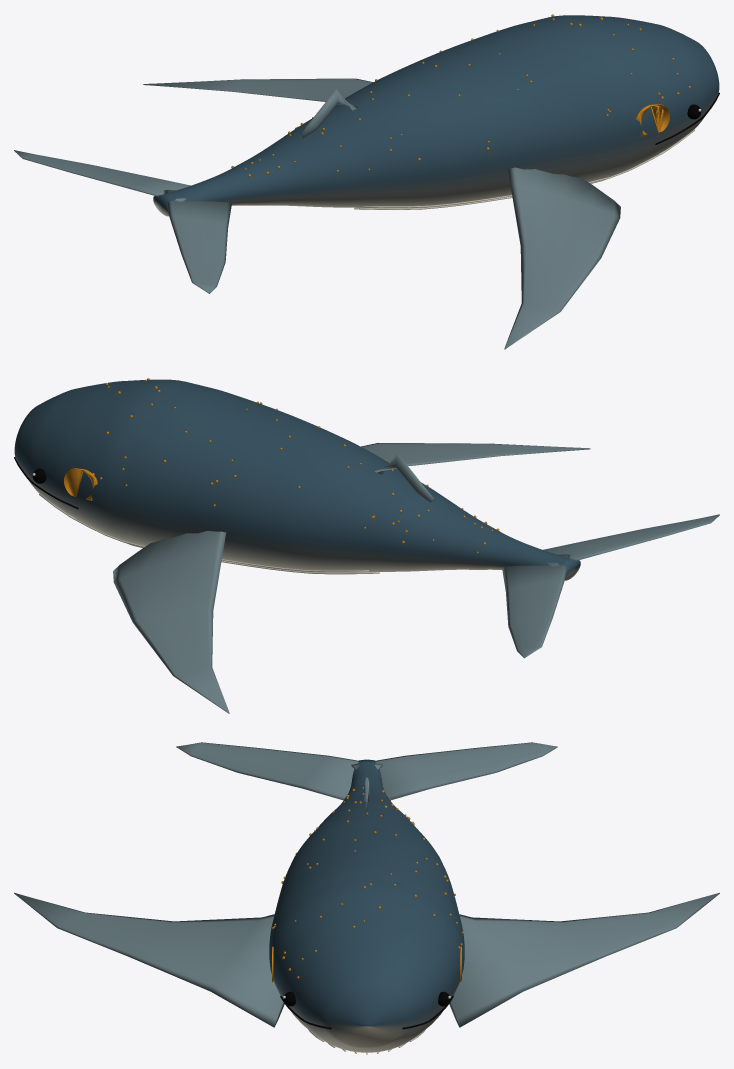
Rendered from world03-sky-whale-v1.glb.
The picture shows the model from 3 angles, top to bottom: view 1: azimuth 30°, elevation 25°; view 2: azimuth 150°, elevation 25°; view 3: azimuth 270°, elevation 25°; orthographic projection. The views are drawn at different scales.
Parts seen in each view (by area): view 1: sky-whale-body, pectoral-left-geometry, tail-fluke-left, pectoral-right-geometry, tail-fluke-right, dorsal-fin, moon-crescent-left; view 2: sky-whale-body, pectoral-right-geometry, tail-fluke-right, pectoral-left-geometry, tail-fluke-left, dorsal-fin, moon-crescent-right; view 3: sky-whale-body, pectoral-right-geometry, pectoral-left-geometry, tail-fluke-right, tail-fluke-left, eyes-and-smile.
Part boxes in pixels (x1,y1,x2,y2): sky-whale-body: (153,15,719,216); pectoral-left-geometry: (504,167,620,349); tail-fluke-left: (163,189,231,293); pectoral-right-geometry: (143,78,372,101); tail-fluke-right: (14,150,190,202); dorsal-fin: (299,89,358,137); moon-crescent-left: (636,104,669,136); sky-whale-body: (14,379,580,580); pectoral-right-geometry: (113,531,229,713); tail-fluke-right: (502,554,569,658); pectoral-left-geometry: (361,443,590,465); tail-fluke-left: (543,514,719,566); dorsal-fin: (375,453,434,502); moon-crescent-right: (64,468,97,500); sky-whale-body: (269,759,464,1054); pectoral-right-geometry: (449,892,719,1027); pectoral-left-geometry: (14,892,284,1027); tail-fluke-right: (351,742,557,799); tail-fluke-left: (176,742,382,800); eyes-and-smile: (280,991,453,1029).
Size of the model in its own units: 11.99 by 2.83 by 12.42.
